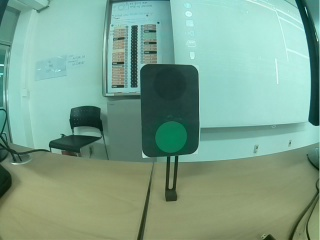green_light: (141, 67, 198, 153)
